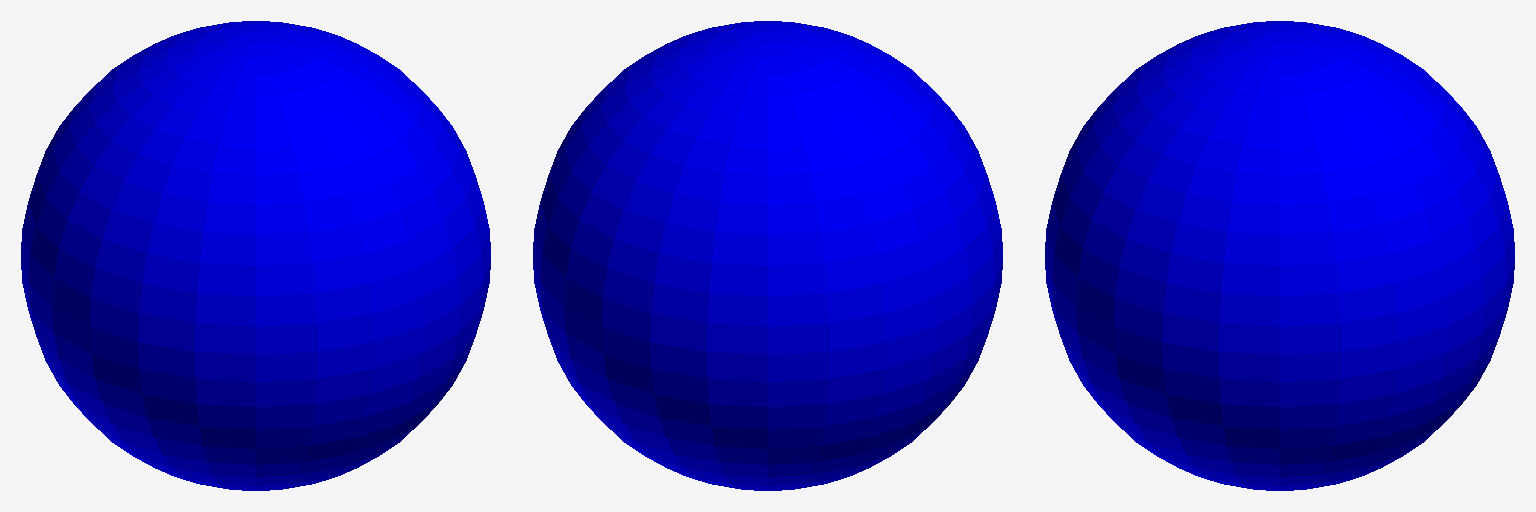
Rendered from spherehi.obj.
3 views of the same model, side by side, from view 1: azimuth 30°, elevation 25°; view 2: azimuth 150°, elevation 25°; view 3: azimuth 270°, elevation 25° (orthographic).
Parts seen in each view (by area): view 1: spherehi; view 2: spherehi; view 3: spherehi.
Boxes of the visible parts, x1=… form: spherehi: x1=21, y1=21, x2=490, y2=490; spherehi: x1=533, y1=21, x2=1002, y2=490; spherehi: x1=1045, y1=21, x2=1514, y2=490.
Size of the model in its own units: 12 by 12 by 12.